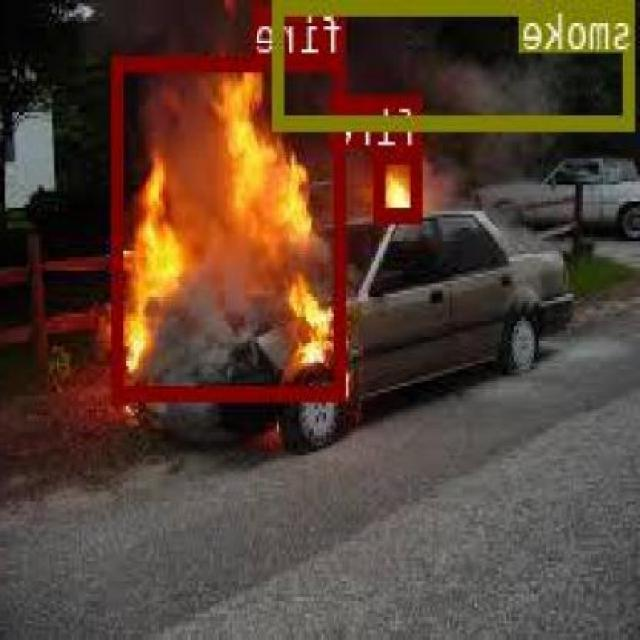Fire: (114, 54, 348, 398), (378, 148, 426, 218)
Smoke: (277, 0, 637, 125)
